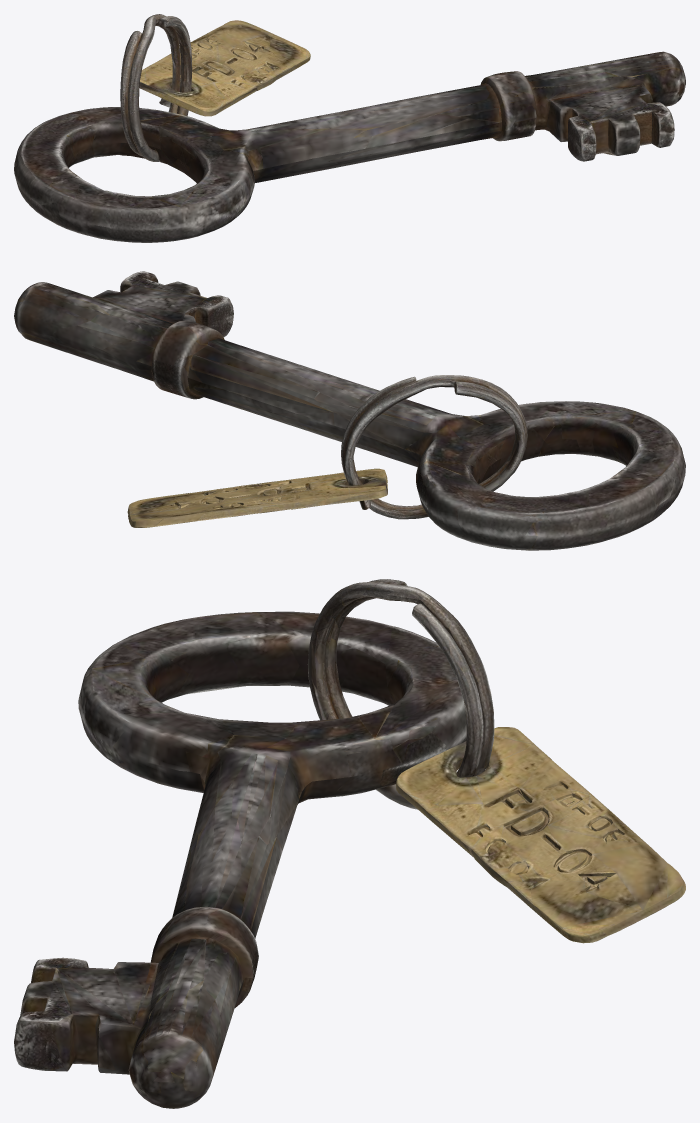
File: flood_key.glb
The picture shows the model from 3 angles, top to bottom: view 1: azimuth 30°, elevation 25°; view 2: azimuth 150°, elevation 25°; view 3: azimuth 270°, elevation 25°; orthographic projection. The views are drawn at different scales.
Visible parts, largest first — view 1: Mesh_0; view 2: Mesh_0; view 3: Mesh_0.
Boxes of the visible parts, box(x1,y1,x2,y2) form: Mesh_0: box(14, 14, 685, 242); Mesh_0: box(14, 271, 685, 550); Mesh_0: box(14, 579, 685, 1108).
Bounding box in the file's own units: 1.9 × 0.4031 × 1.2.
1 material, 1 textured.
